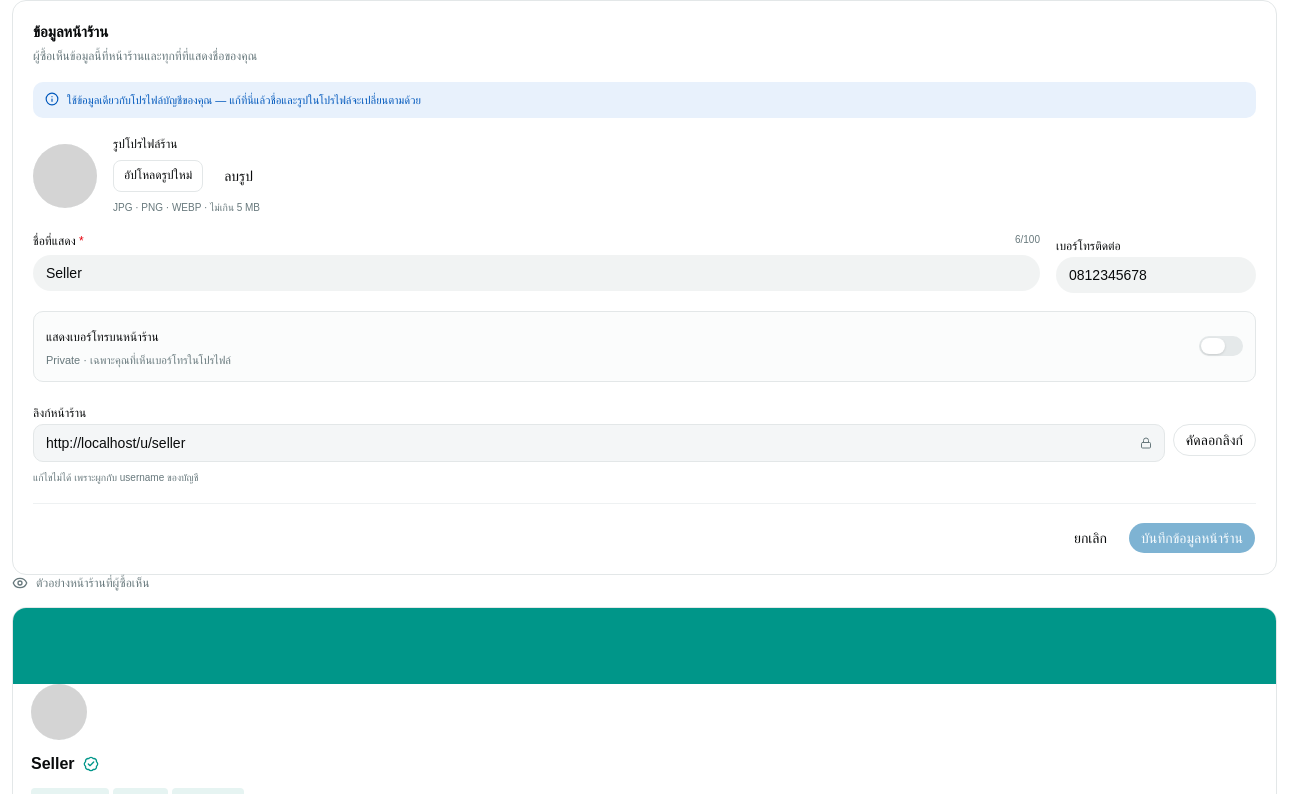
Test: ShopProfileCard › enables saving again after a successful save without refreshing
Replace the text in the field labelled "ชื่อที่แสดง *" with "First name": (536, 273) [33,255,1040,291]
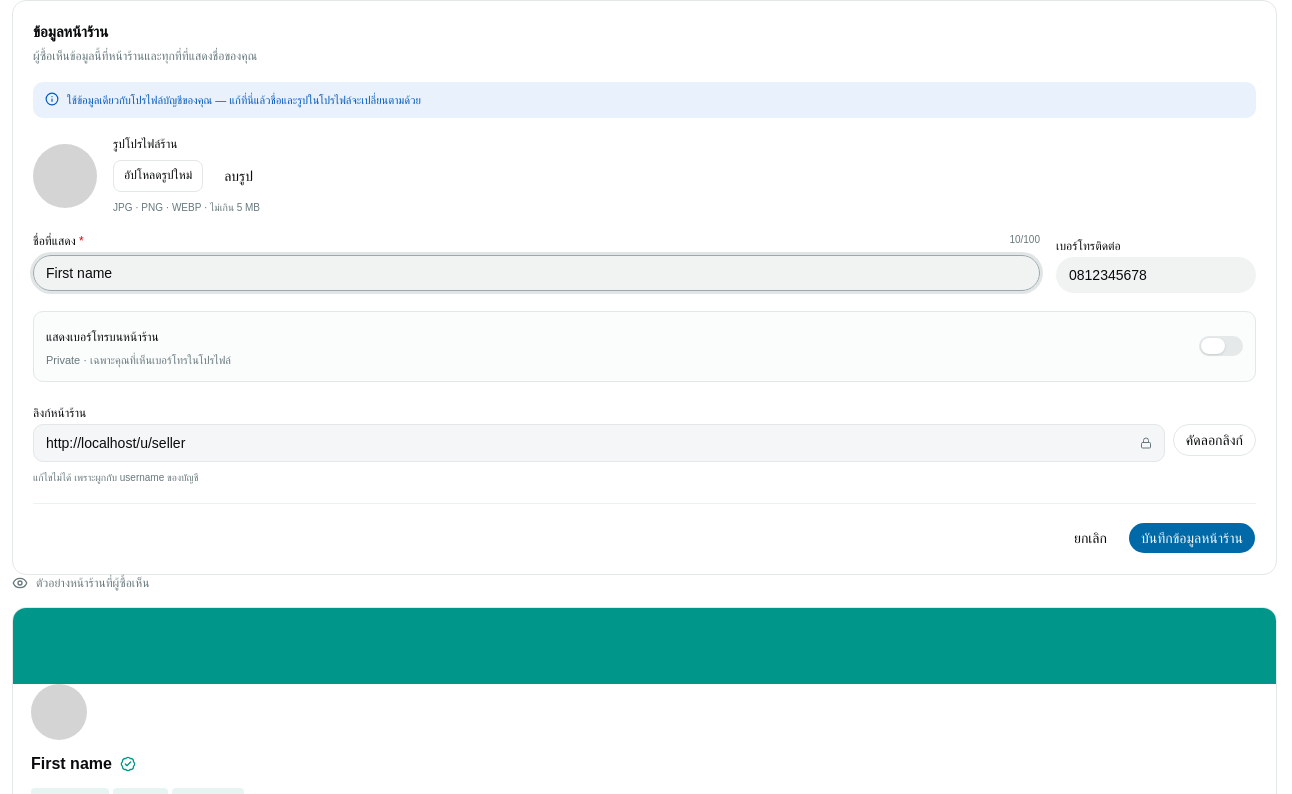
Click the button "บันทึกข้อมูลหน้าร้าน": (1192, 538) [1128,522,1256,554]
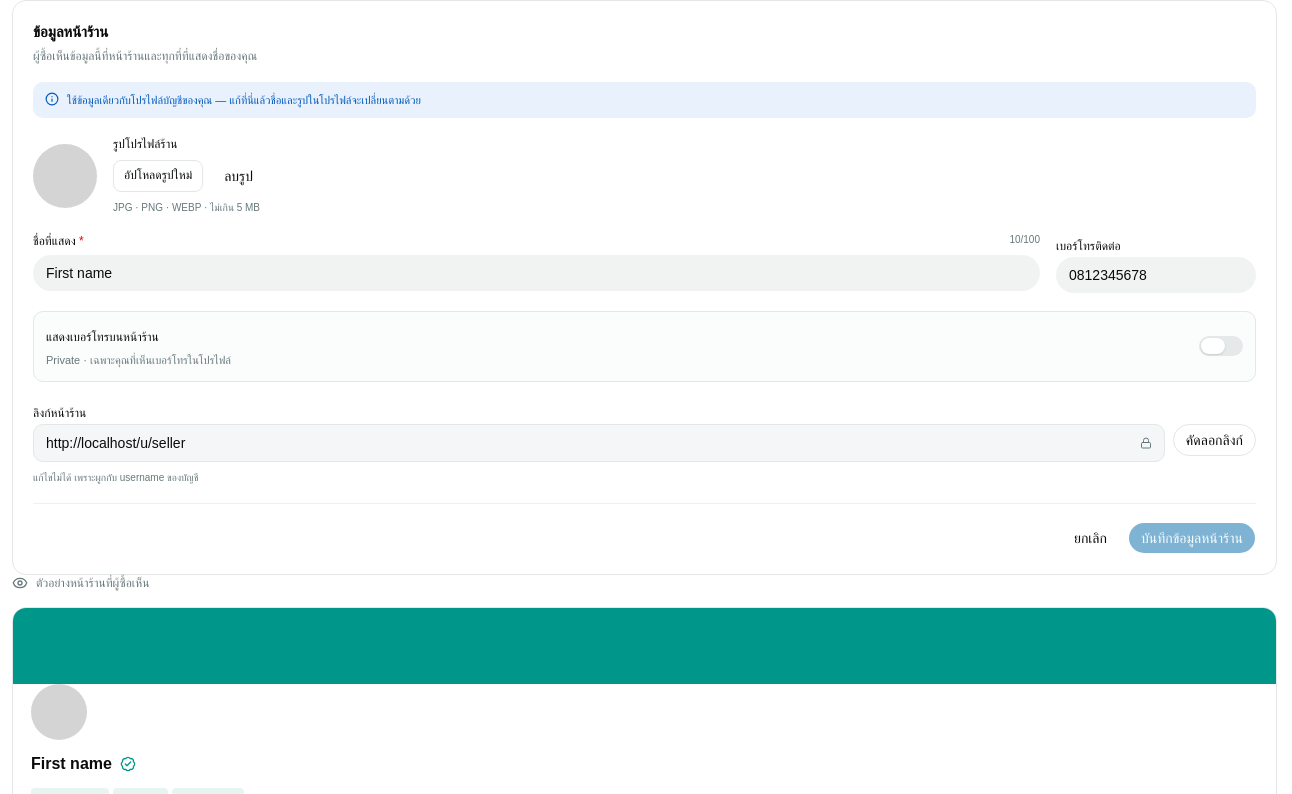
Check: the button "บันทึกข้อมูลหน้าร้าน" is disabled, box [1128,522,1256,554]
Replace the text in the field labelled "ชื่อที่แสดง *" with "Second name": (536, 273) [33,255,1040,291]
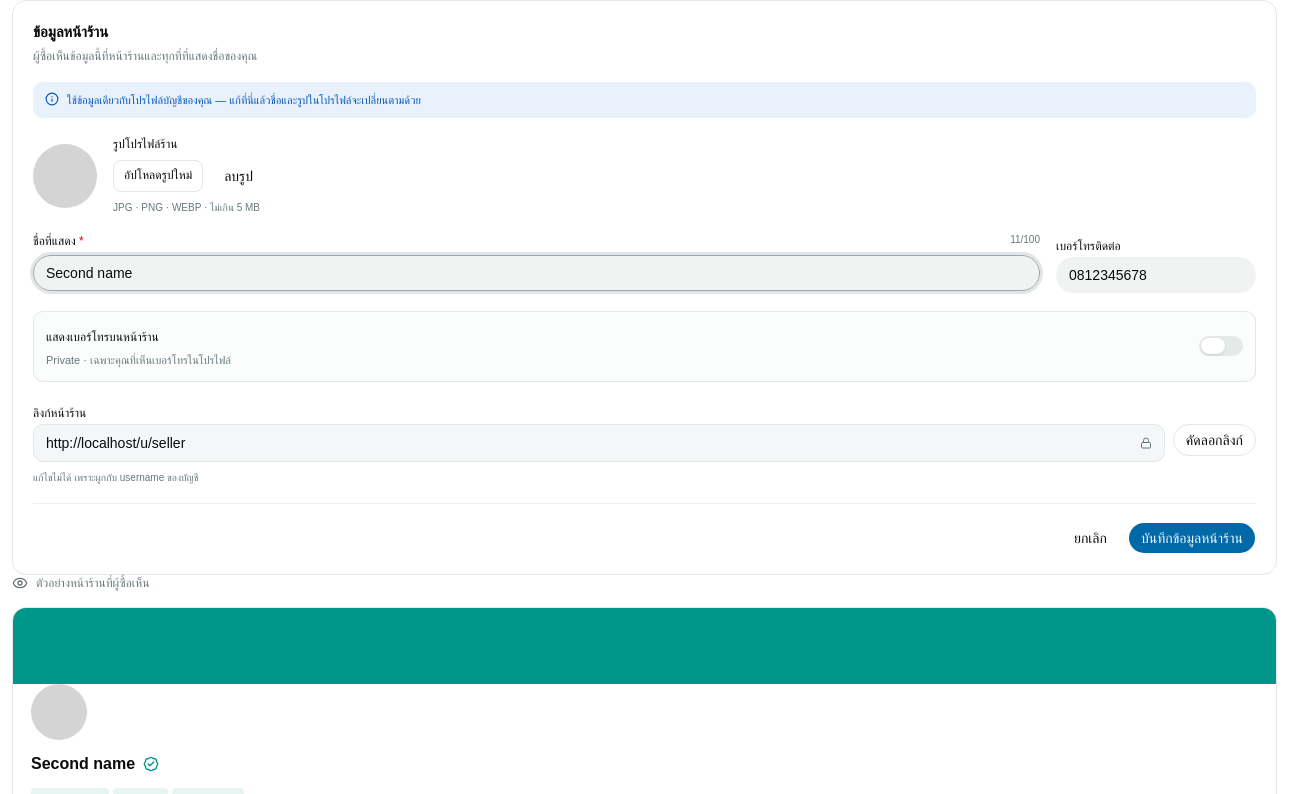
Check: the button "บันทึกข้อมูลหน้าร้าน" is enabled
Check: the heading "Second name" is shown, box [31,754,159,772]
Click the button "บันทึกข้อมูลหน้าร้าน": (1192, 538) [1128,522,1256,554]
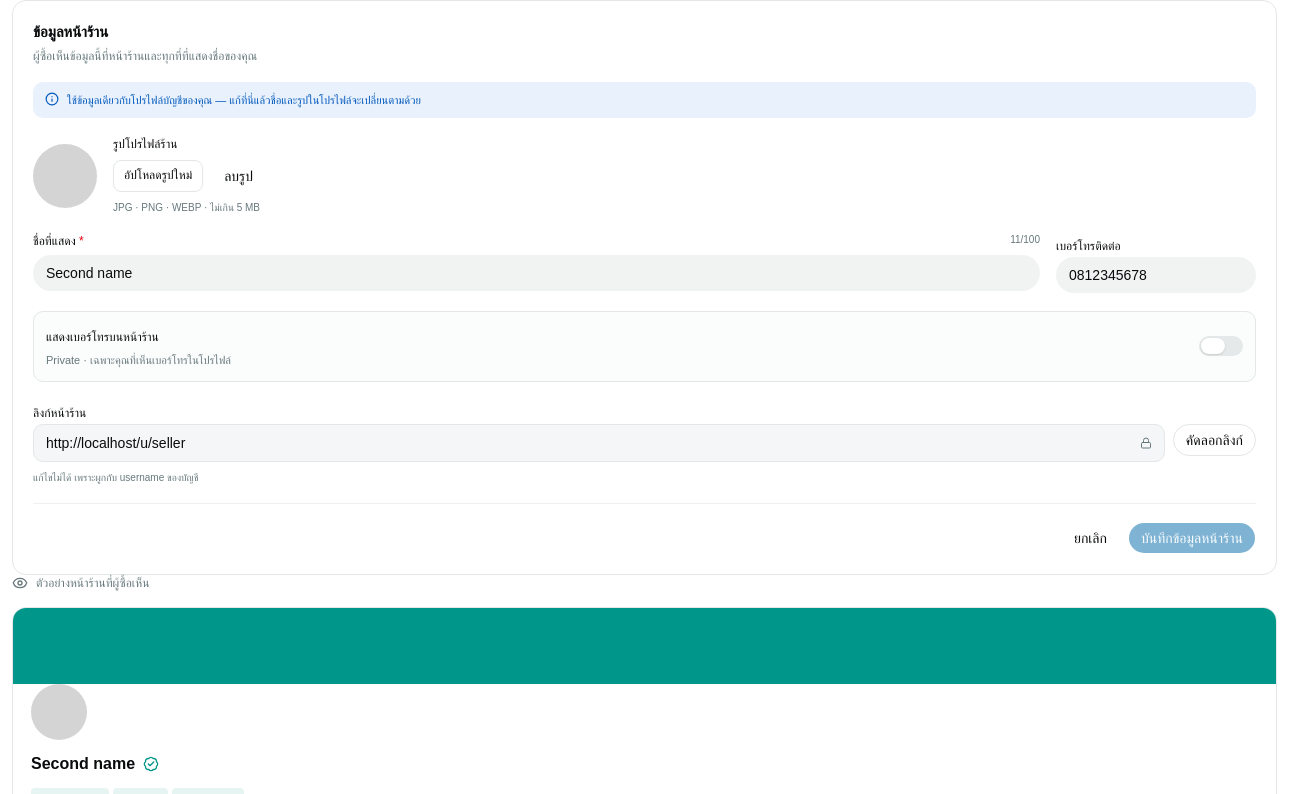
Check: the button "บันทึกข้อมูลหน้าร้าน" is disabled, box [1128,522,1256,554]
